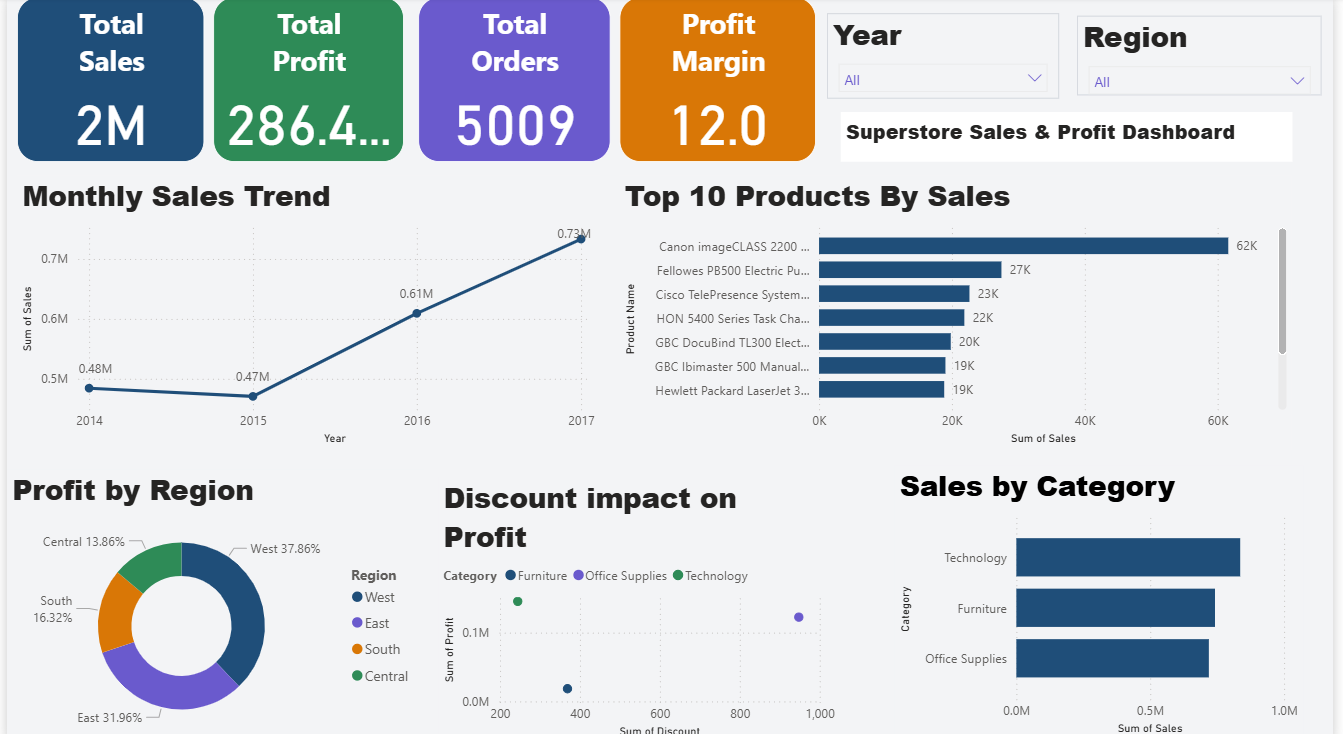

What the dashboard file says about the page in this screenshot:
{"tool":"powerbi","page":{"name":"Page 1","canvas":[1280,720],"ordinal":0},"visuals":[{"type":"card","title":"Total Sales","fields":{"Values":["Sum(cleaned_superstore.Sales)"]},"box":[9.6,0,181.1,159.2],"z":0},{"type":"card","title":"Total Profit","fields":{"Values":["Sum(cleaned_superstore.Profit)"]},"box":[199,0,183.9,159.2],"z":1000},{"type":"card","title":"Total Orders","fields":{"Values":["cleaned_superstore.Total Orders"]},"box":[396.6,0,185.2,159.2],"z":2000},{"type":"card","title":"Profit Margin","fields":{"Values":["Avg(cleaned_superstore.Profit Margin)"]},"box":[591.4,0,189.4,159.2],"z":3000},{"type":"clusteredBarChart","title":" Sales by Category","fields":{"Category":["cleaned_superstore.Category"],"Y":["Sum(cleaned_superstore.Sales)"]},"box":[856.3,452.8,395.2,264.8],"z":4000},{"type":"donutChart","title":" Profit by Region","fields":{"Category":["cleaned_superstore.Region"],"Y":["Sum(cleaned_superstore.Profit)"]},"box":[0,455.6,402.1,264.8],"z":5000},{"type":"lineChart","title":"Monthly Sales Trend","fields":{"Category":["cleaned_superstore.Order Date.Variation.Date Hierarchy.Year","cleaned_superstore.Order Date.Variation.Date Hierarchy.Quarter","cleaned_superstore.Order Date.Variation.Date Hierarchy.Month","cleaned_superstore.Order Date.Variation.Date Hierarchy.Day"],"Y":["Sum(cleaned_superstore.Sales)"]},"box":[9.6,172.9,562.6,264.8],"z":6000},{"type":"scatterChart","title":" Discount impact on Profit ","fields":{"X":["Sum(cleaned_superstore.Discount)"],"Y":["Sum(cleaned_superstore.Profit)"],"Series":["cleaned_superstore.Category"]},"box":[415.8,463.8,388.3,256.6],"z":7000},{"type":"clusteredBarChart","title":"Top 10 Products By Sales","fields":{"Category":["cleaned_superstore.Product Name"],"Y":["Sum(cleaned_superstore.Sales)"]},"box":[591.4,172.9,649.1,264.8],"z":8000},{"type":"slicer","title":"Year","fields":{"Values":["cleaned_superstore.Order Date.Variation.Date Hierarchy.Year"]},"box":[791.8,15.1,223.7,82.3],"z":9000},{"type":"slicer","title":"Region","fields":{"Values":["cleaned_superstore.Region"]},"box":[1033.3,17.8,236,76.8],"z":10000},{"type":"textbox","box":[804.1,111.1,436.4,48],"z":11000}]}

Visuals, with their boxes in screenshot pixels (x1, y1, x2, y2), scaled from the page's 1280x720 canvas onto the 1343x734 screenshot:
"Total Sales" card: left=10, top=0, right=200, bottom=162
"Total Profit" card: left=209, top=0, right=402, bottom=162
"Total Orders" card: left=416, top=0, right=610, bottom=162
"Profit Margin" card: left=621, top=0, right=819, bottom=162
" Sales by Category" clusteredBarChart: left=898, top=462, right=1313, bottom=732
" Profit by Region" donutChart: left=0, top=464, right=422, bottom=733
"Monthly Sales Trend" lineChart: left=10, top=176, right=600, bottom=446
" Discount impact on Profit " scatterChart: left=436, top=473, right=844, bottom=733
"Top 10 Products By Sales" clusteredBarChart: left=621, top=176, right=1302, bottom=446
"Year" slicer: left=831, top=15, right=1065, bottom=99
"Region" slicer: left=1084, top=18, right=1332, bottom=96
textbox: left=844, top=113, right=1302, bottom=162
